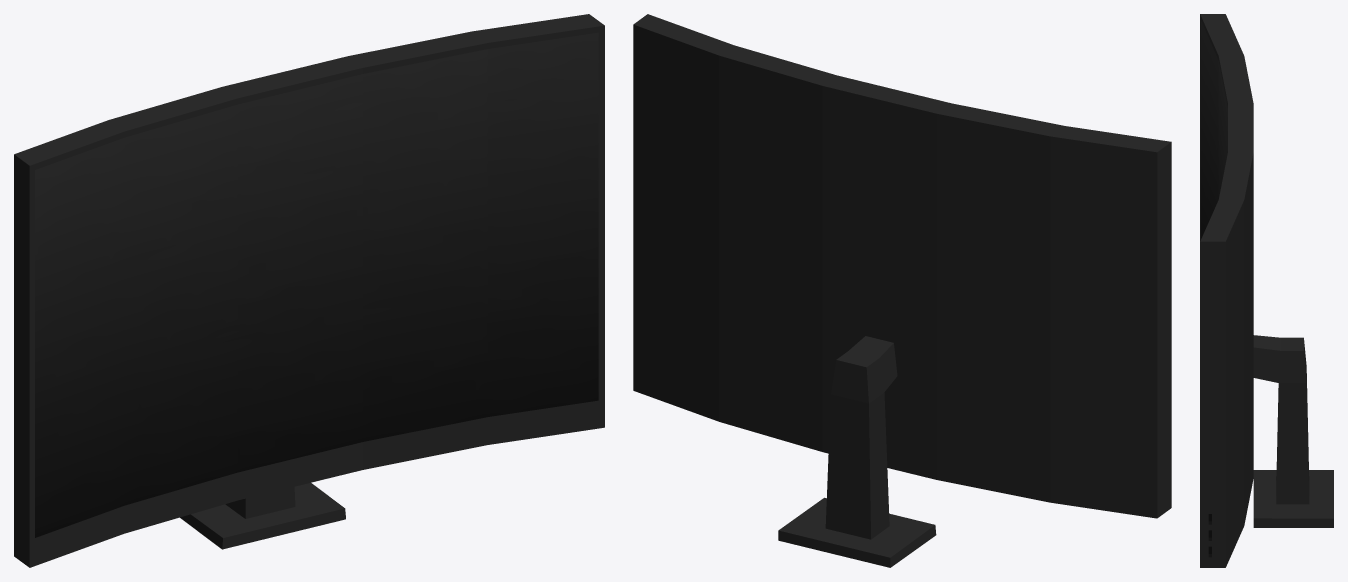
File: MoniterV3.fbx
3 renders of one model, left to right at view 1: azimuth 30°, elevation 25°; view 2: azimuth 150°, elevation 25°; view 3: azimuth 270°, elevation 25°, orthographic. The views are drawn at different scales.
Parts seen in each view (by area): view 1: MoniterV3; view 2: MoniterV3; view 3: MoniterV3.
Part boxes in pixels (bbox=[...]): MoniterV3: bbox=[14, 14, 604, 567]; MoniterV3: bbox=[633, 14, 1171, 567]; MoniterV3: bbox=[1200, 14, 1333, 567].
Bounding box in the file's own units: 60 × 46.14 × 14.89.
